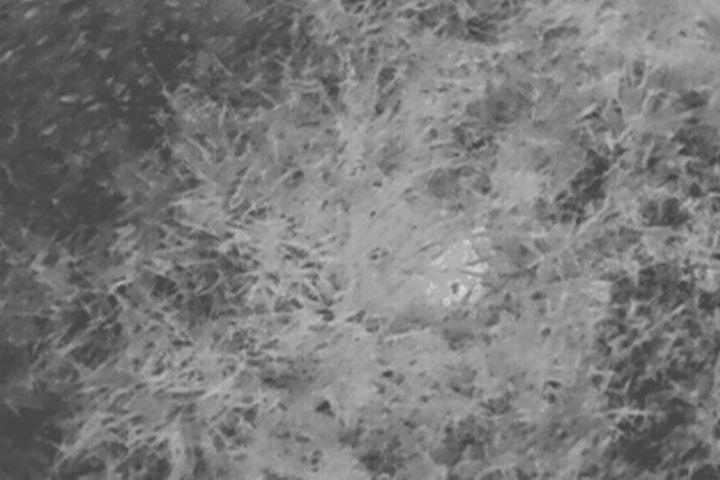landmine: (365, 208, 493, 315)
